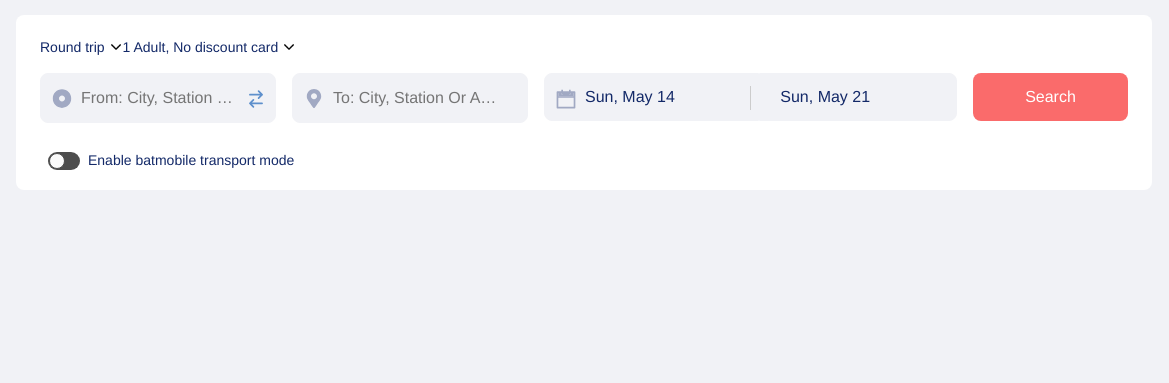
Searchbar Params › should change number of youth when clicked
Click the button "1 Adult, No discount card". click: (208, 47)
box: [123, 39, 294, 55]
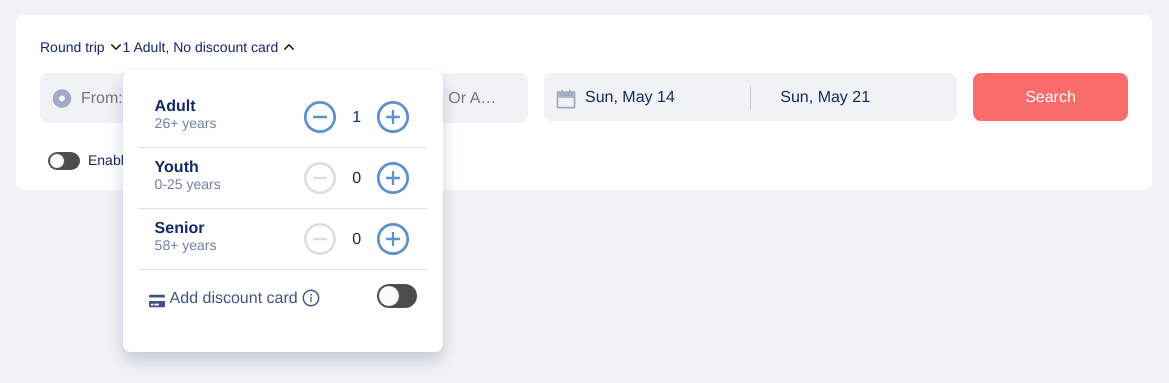
Click the 2nd icon with test id "icon--plus". click: (393, 178)
box: [375, 160, 412, 196]
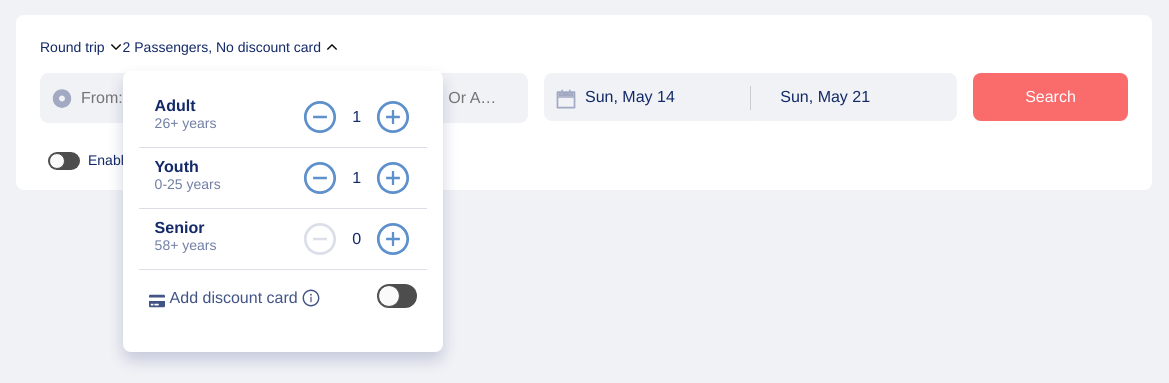
Click the 2nd icon with test id "icon--plus". click: (393, 178)
box: [375, 160, 412, 196]
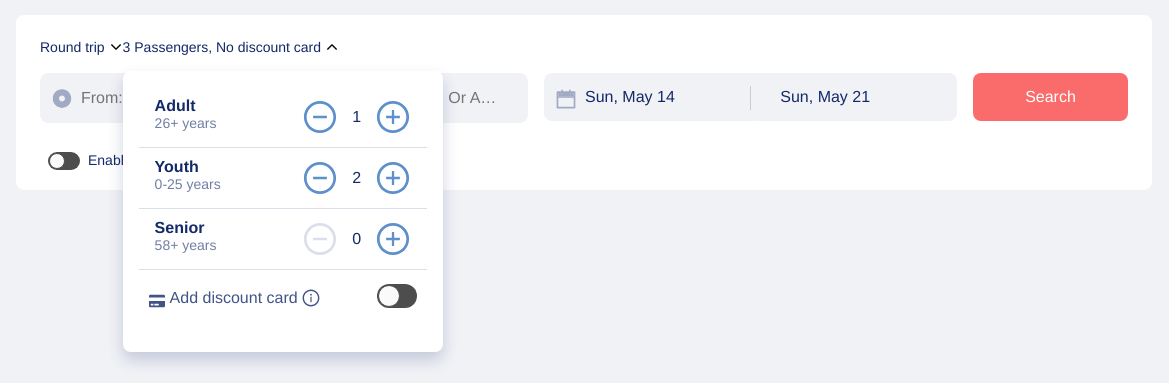
Check: the text "2" is shown, box [352, 169, 361, 187]
